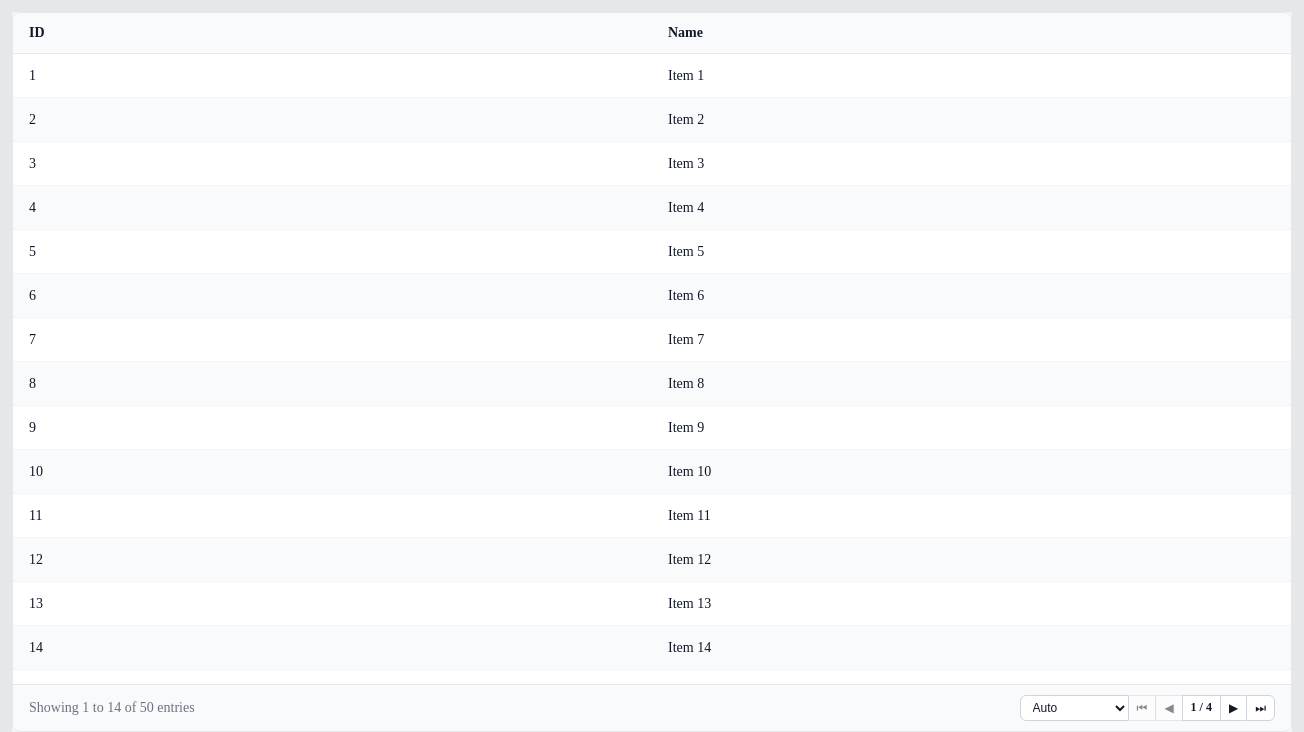
Test case: DataTable Virtualized Component › page-size dropdown "Auto" option (issue #419) › switches an auto-sized table into a fixed size live, resetting to page 1
The image size is (1304, 732).
Select "25 per page" in the dropdown named "Rows per page": (1074, 708) top-left (1020, 695), bottom-right (1129, 721)
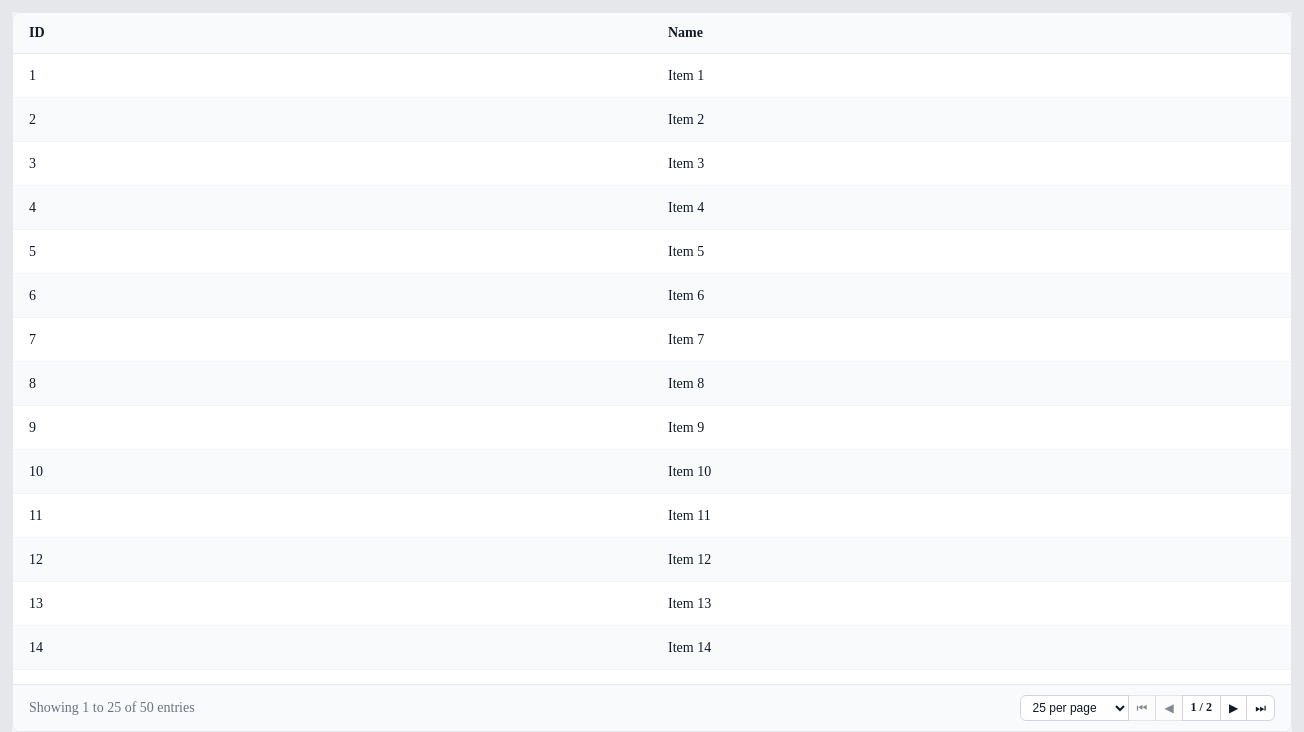
Check: the text "Showing 1 to 25 of 50 entries" is shown, box top-left (29, 700), bottom-right (195, 716)
